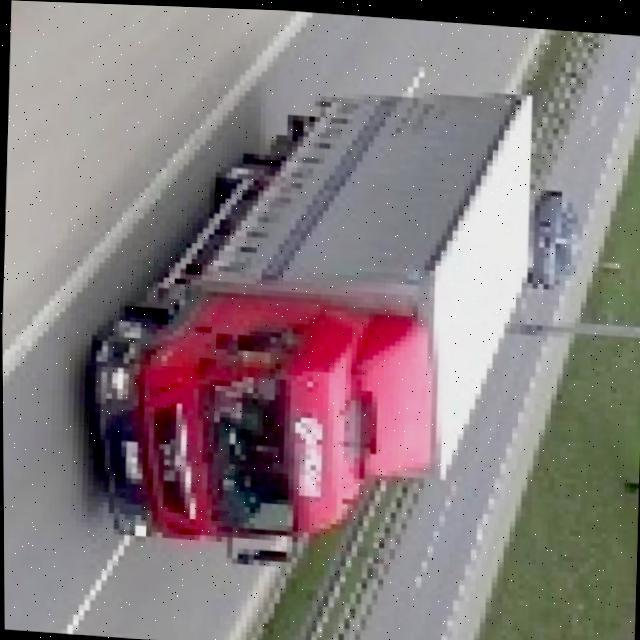truck: (77, 61, 540, 580)
